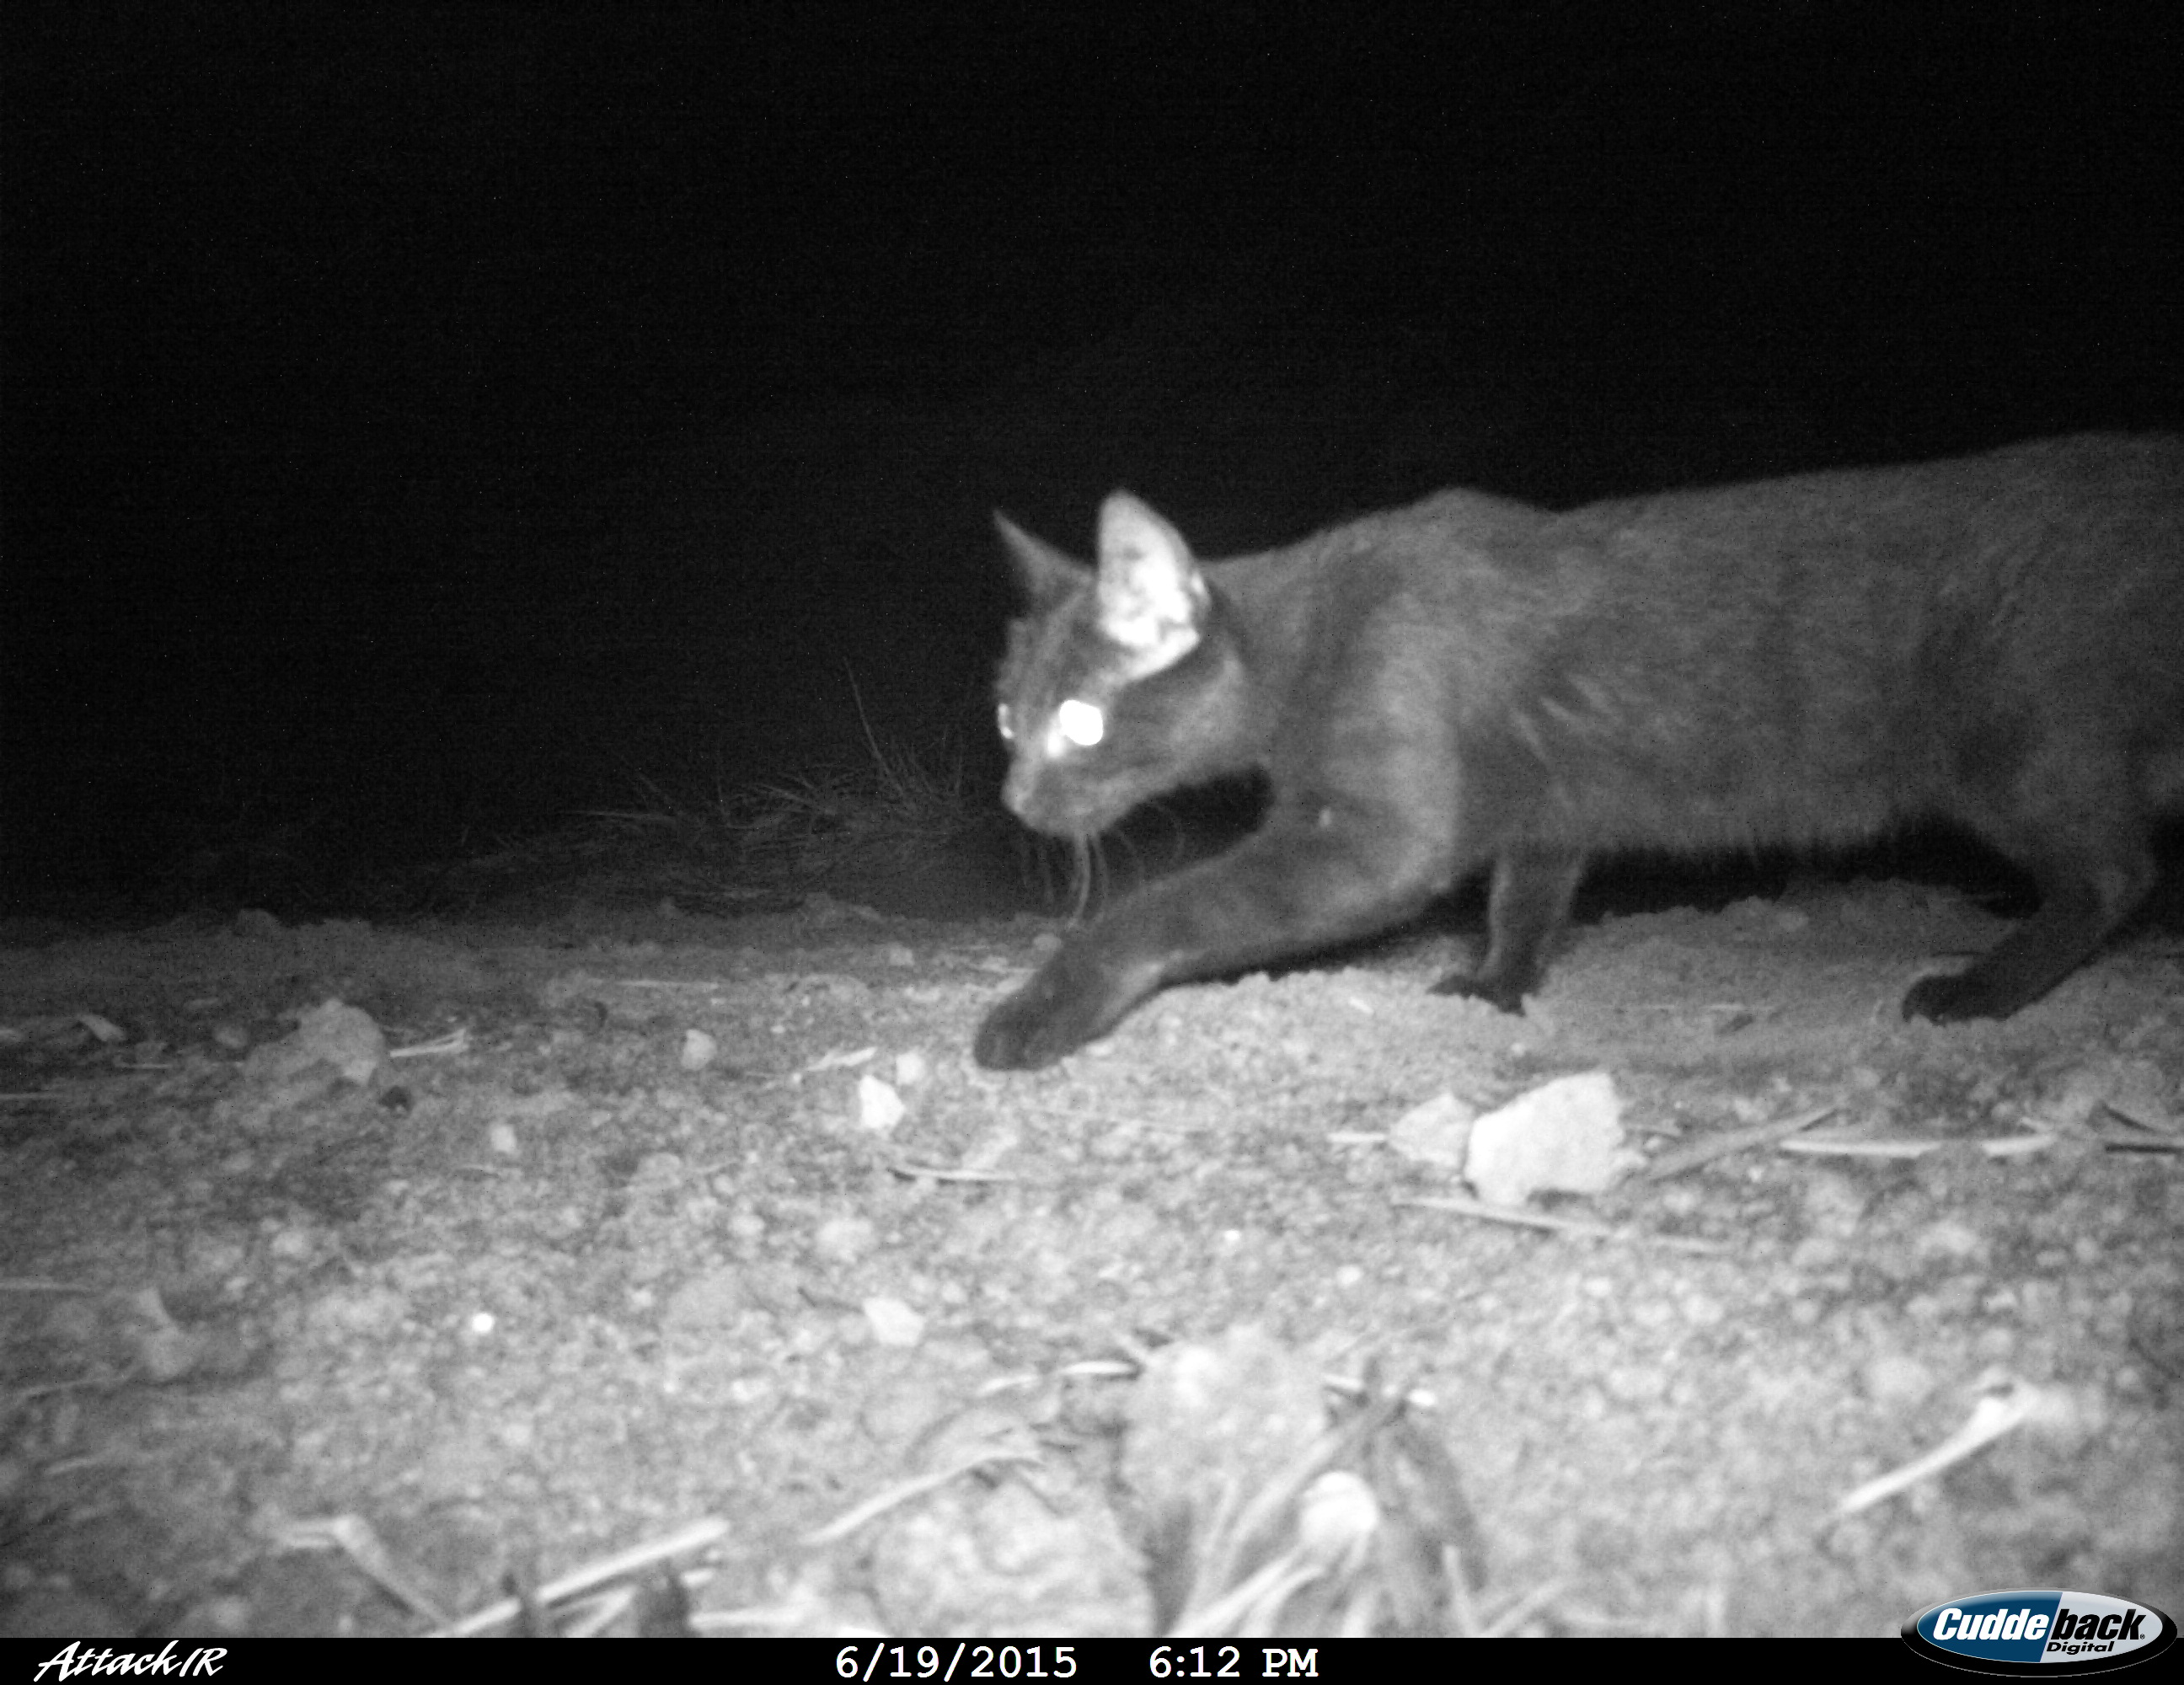cat: (982, 414, 2177, 1089)
